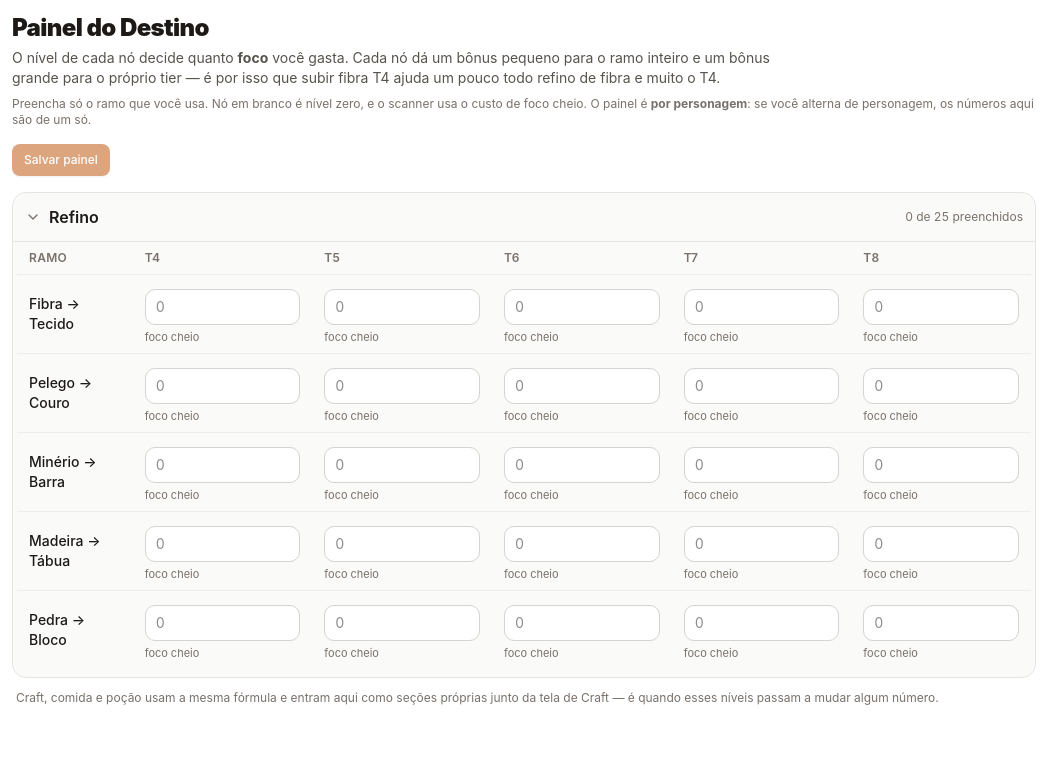
Scenario: falha ao salvar não apaga o que o jogador digitou
This screenshot has width=1048, height=780.
Type "77" into the field named "Pedra → Bloco T7".
click(761, 623); type("77")  # box x1=684 y1=605 x2=839 y2=641
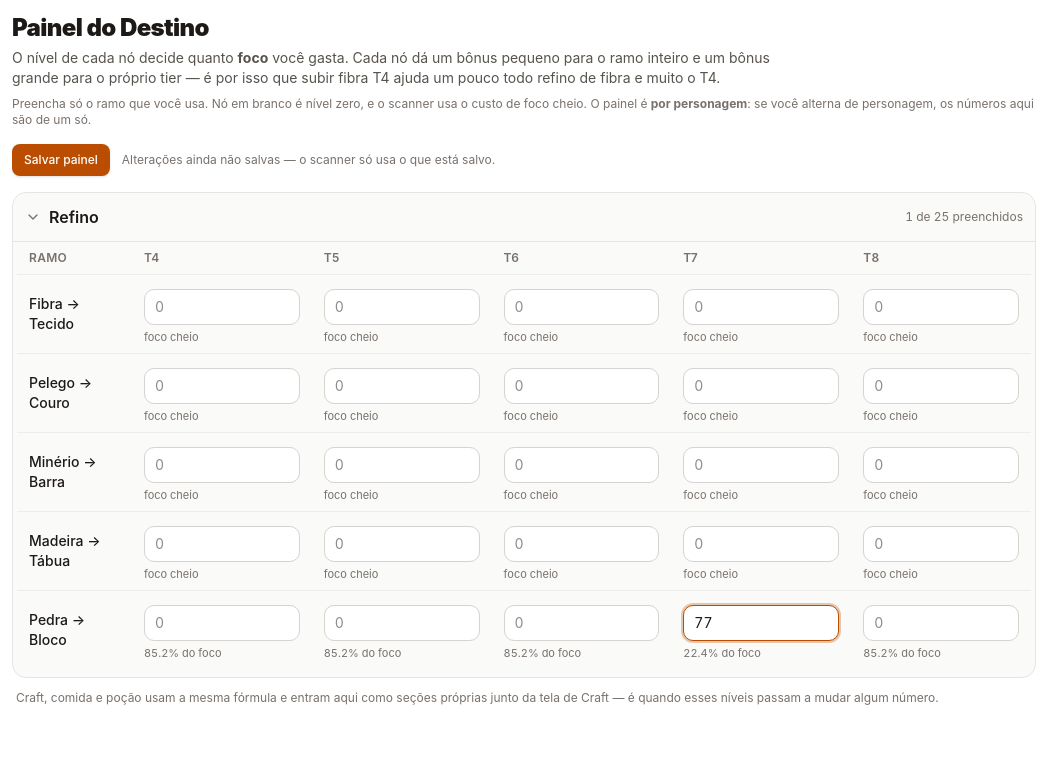
Click the button "Salvar painel".
click(61, 160)  # box x1=12 y1=144 x2=110 y2=176
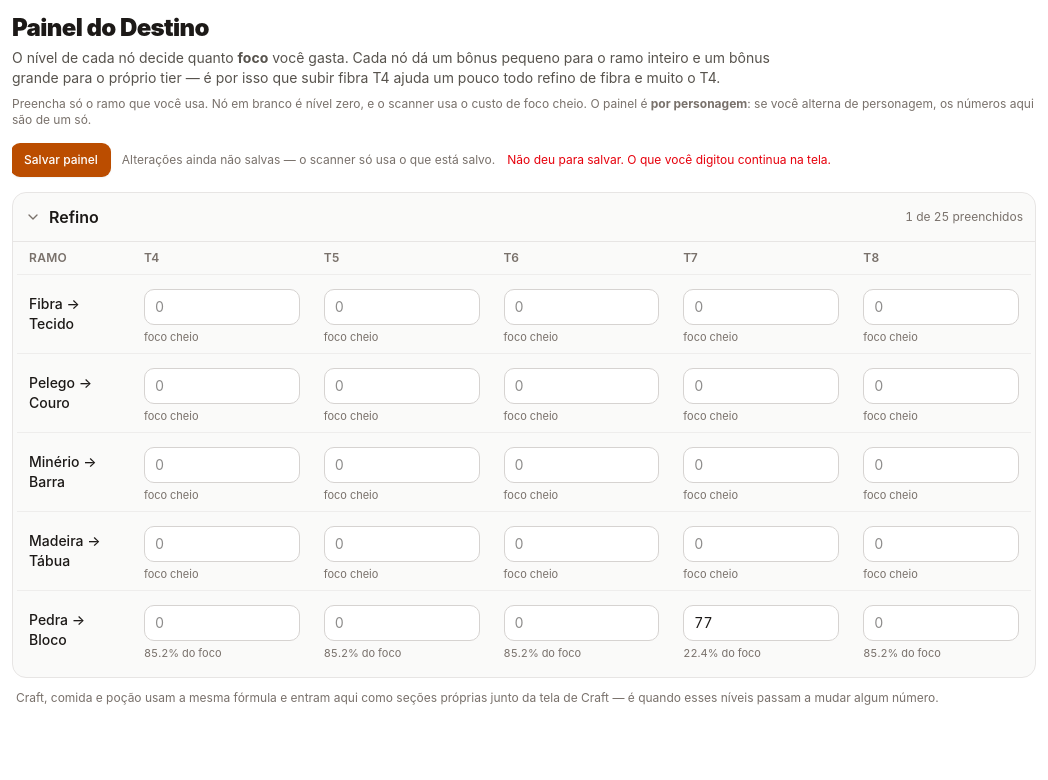
Result: the text "Não deu para salvar. O que você digitou continua na tela." is shown at x1=507 y1=152 x2=831 y2=168
